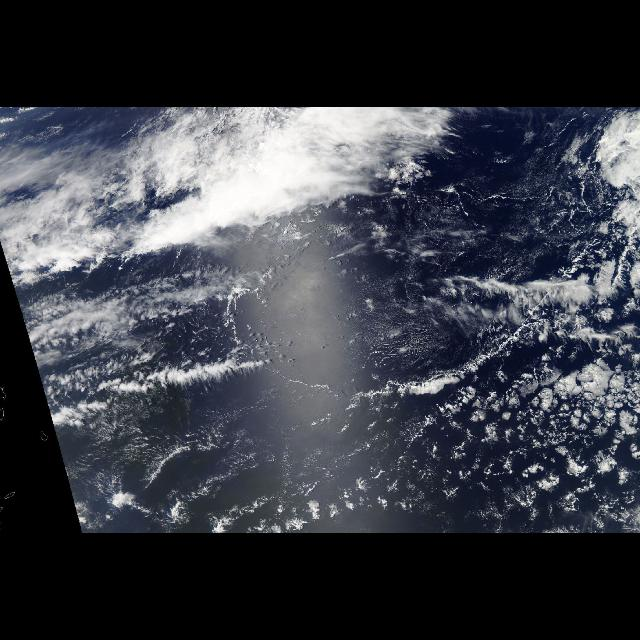Flower: (408, 318, 634, 518)
